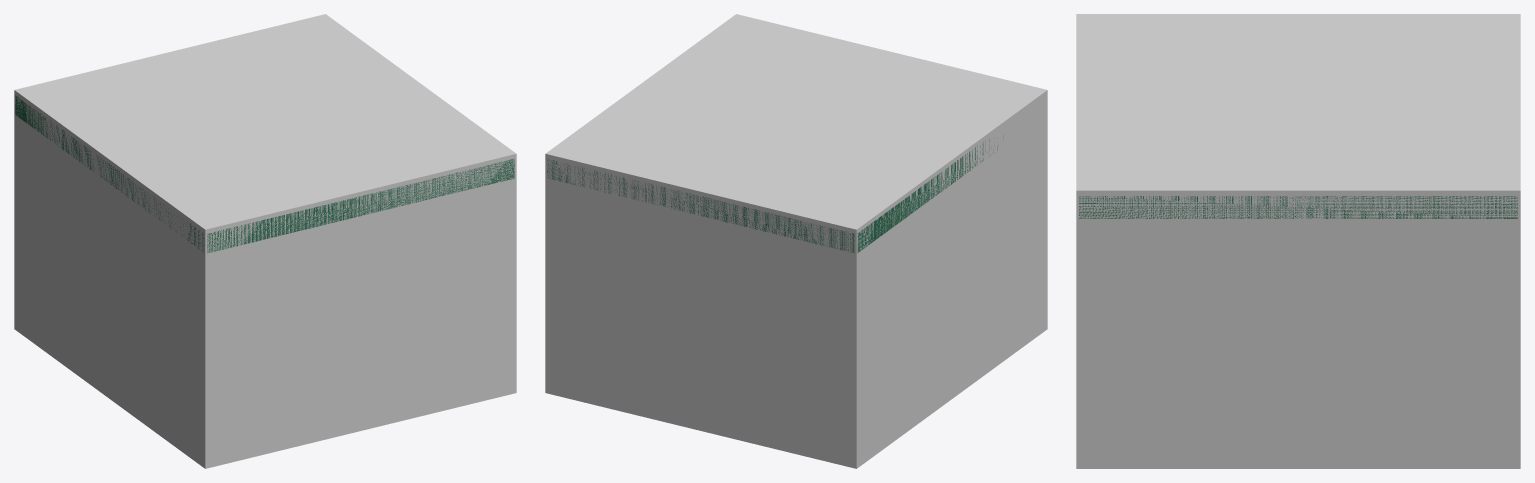
The model's file is cart-storage_boutique.glb.
The picture shows the model from 3 angles, left to right: view 1: azimuth 30°, elevation 25°; view 2: azimuth 150°, elevation 25°; view 3: azimuth 270°, elevation 25°; orthographic projection. The views are drawn at different scales.
Visible parts, largest first — view 1: COL_cart-storage, MESH_ShelterRoof; view 2: COL_cart-storage, MESH_ShelterRoof; view 3: COL_cart-storage, MESH_ShelterRoof.
Part boxes in pixels (left/top/right/bottom): COL_cart-storage: left=14, top=14, right=516, bottom=468; MESH_ShelterRoof: left=15, top=95, right=514, bottom=253; COL_cart-storage: left=545, top=14, right=1047, bottom=468; MESH_ShelterRoof: left=547, top=135, right=1003, bottom=252; COL_cart-storage: left=1076, top=14, right=1520, bottom=468; MESH_ShelterRoof: left=1079, top=196, right=1517, bottom=218.
Bounding box in the file's own units: 3.2 × 2.35 × 3.4.
